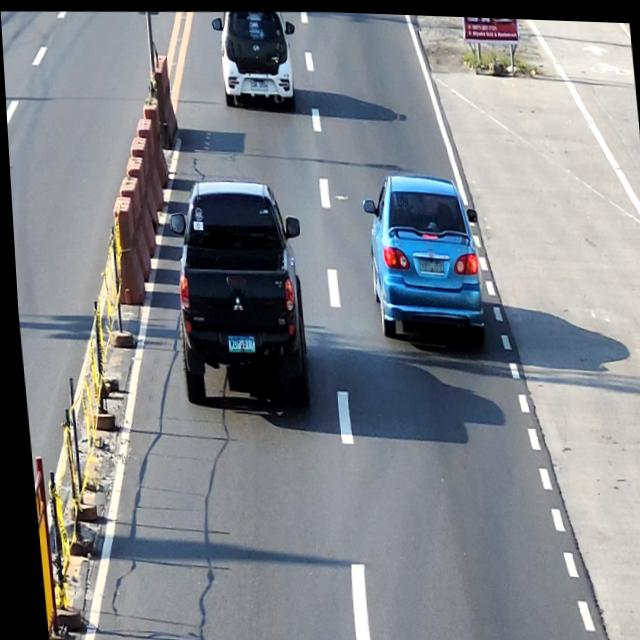Car: (160, 171, 313, 415), (358, 167, 486, 353), (210, 7, 302, 111)
License-Plate: (222, 333, 252, 352), (415, 253, 441, 270), (248, 75, 267, 89)
